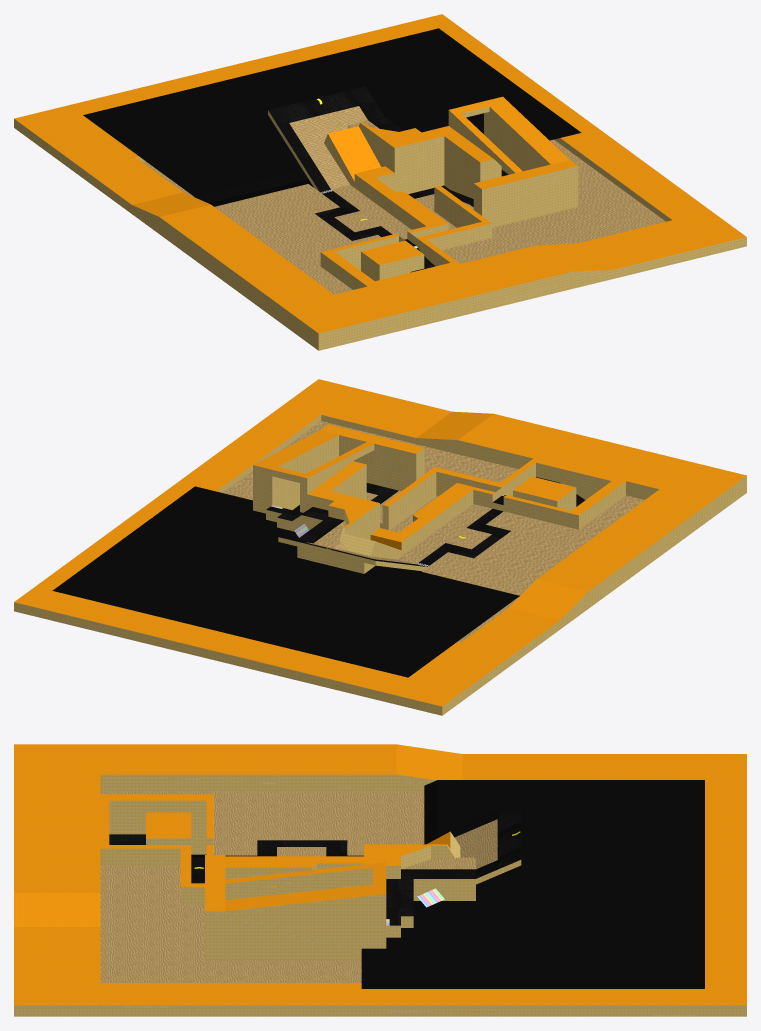
3 renders of one model, top to bottom at view 1: azimuth 30°, elevation 25°; view 2: azimuth 150°, elevation 25°; view 3: azimuth 270°, elevation 25°, orthographic. The views are drawn at different scales.
Visible parts, largest first — view 1: model-SKP--outofbounds, model-SKP--airfall, model-SKP--wall, model-SKP--sand, model-SKP--road, model-SKP--invisible; view 2: model-SKP--outofbounds, model-SKP--airfall, model-SKP--wall, model-SKP--sand, model-SKP--road; view 3: model-SKP--outofbounds, model-SKP--airfall, model-SKP--wall, model-SKP--sand, model-SKP--road.
Boxes of the visible parts, x1,y1,x2,y2 form: model-SKP--outofbounds: (14,14,746,333); model-SKP--airfall: (83,28,581,203); model-SKP--wall: (14,106,746,350); model-SKP--sand: (142,106,665,294); model-SKP--road: (268,86,508,272); model-SKP--invisible: (209,179,313,206); model-SKP--outofbounds: (14,379,746,706); model-SKP--airfall: (52,486,519,677); model-SKP--wall: (14,415,746,715); model-SKP--sand: (223,421,644,642); model-SKP--road: (266,477,585,566); model-SKP--outofbounds: (14,744,746,1005); model-SKP--airfall: (361,780,704,988); model-SKP--wall: (14,774,746,1016); model-SKP--sand: (100,791,497,982); model-SKP--road: (109,802,521,925).
Size of the model in its own units: 87552 by 14282 by 107891.
13 materials, 13 textured.
